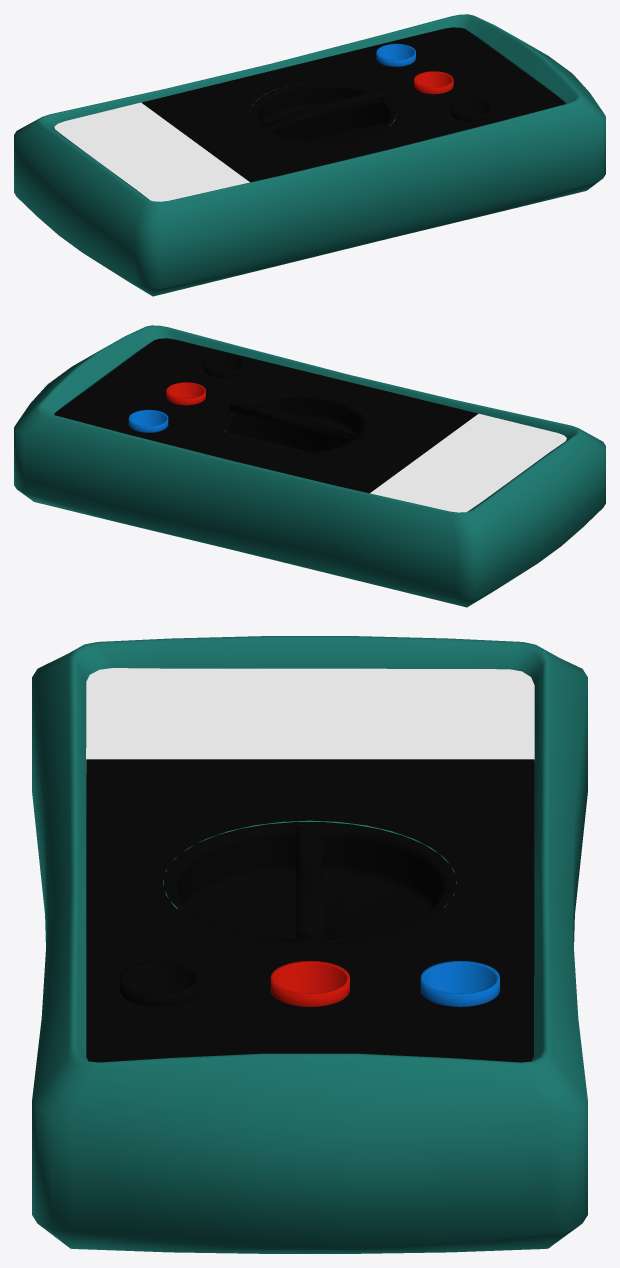
3 renders of one model, top to bottom at view 1: azimuth 30°, elevation 25°; view 2: azimuth 150°, elevation 25°; view 3: azimuth 270°, elevation 25°, orthographic. The views are drawn at different scales.
Visible parts, largest first — view 1: Body, Front Panel, Glass, Cursor, Pinout, Pinout.002, Pinout.001; view 2: Body, Front Panel, Glass, Cursor, Pinout, Pinout.002, Pinout.001; view 3: Body, Front Panel, Glass, Cursor, Pinout, Pinout.002, Pinout.001.
Boxes of the visible parts, <box> form: Body: <box>14,14,605,296</box>; Front Panel: <box>141,27,565,182</box>; Glass: <box>54,102,249,201</box>; Cursor: <box>250,81,396,143</box>; Pinout: <box>376,43,415,115</box>; Pinout.002: <box>451,99,491,121</box>; Pinout.001: <box>414,71,453,94</box>; Body: <box>14,325,605,607</box>; Front Panel: <box>54,338,477,493</box>; Glass: <box>370,413,566,512</box>; Cursor: <box>223,392,369,454</box>; Pinout: <box>128,409,168,432</box>; Pinout.002: <box>204,354,243,426</box>; Pinout.001: <box>166,382,205,405</box>; Body: <box>32,636,587,1253</box>; Front Panel: <box>86,759,534,1062</box>; Glass: <box>86,668,534,773</box>; Cursor: <box>163,822,456,944</box>; Pinout: <box>420,960,499,1006</box>; Pinout.002: <box>119,960,198,1006</box>; Pinout.001: <box>270,960,349,1006</box>.
Bounding box in the file's own units: 14.25 × 2.85 × 7.
10 materials, 2 textured.
